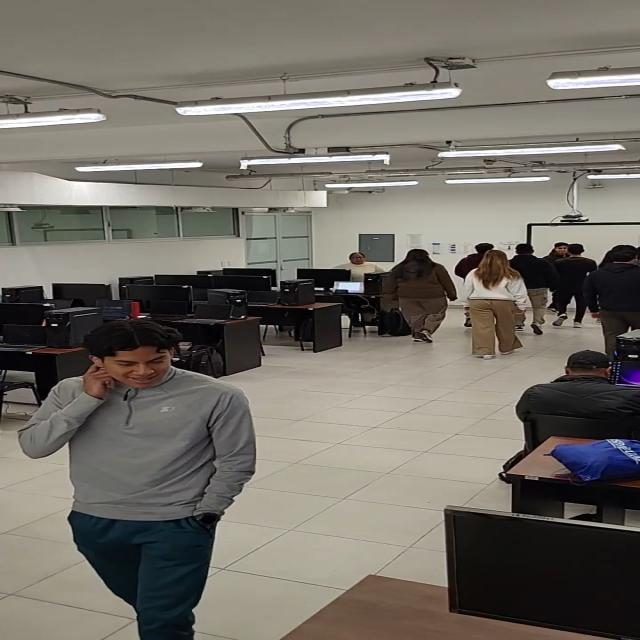Persona: (14, 314, 259, 640), (461, 248, 521, 360), (386, 248, 453, 346), (551, 246, 594, 325), (517, 240, 549, 335)
